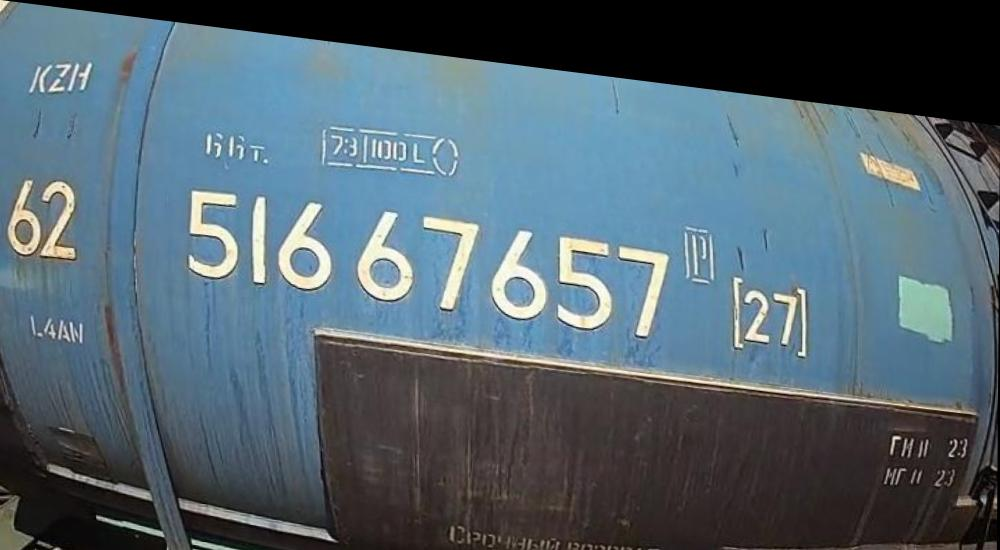Wagon-number: (182, 175, 678, 331)
